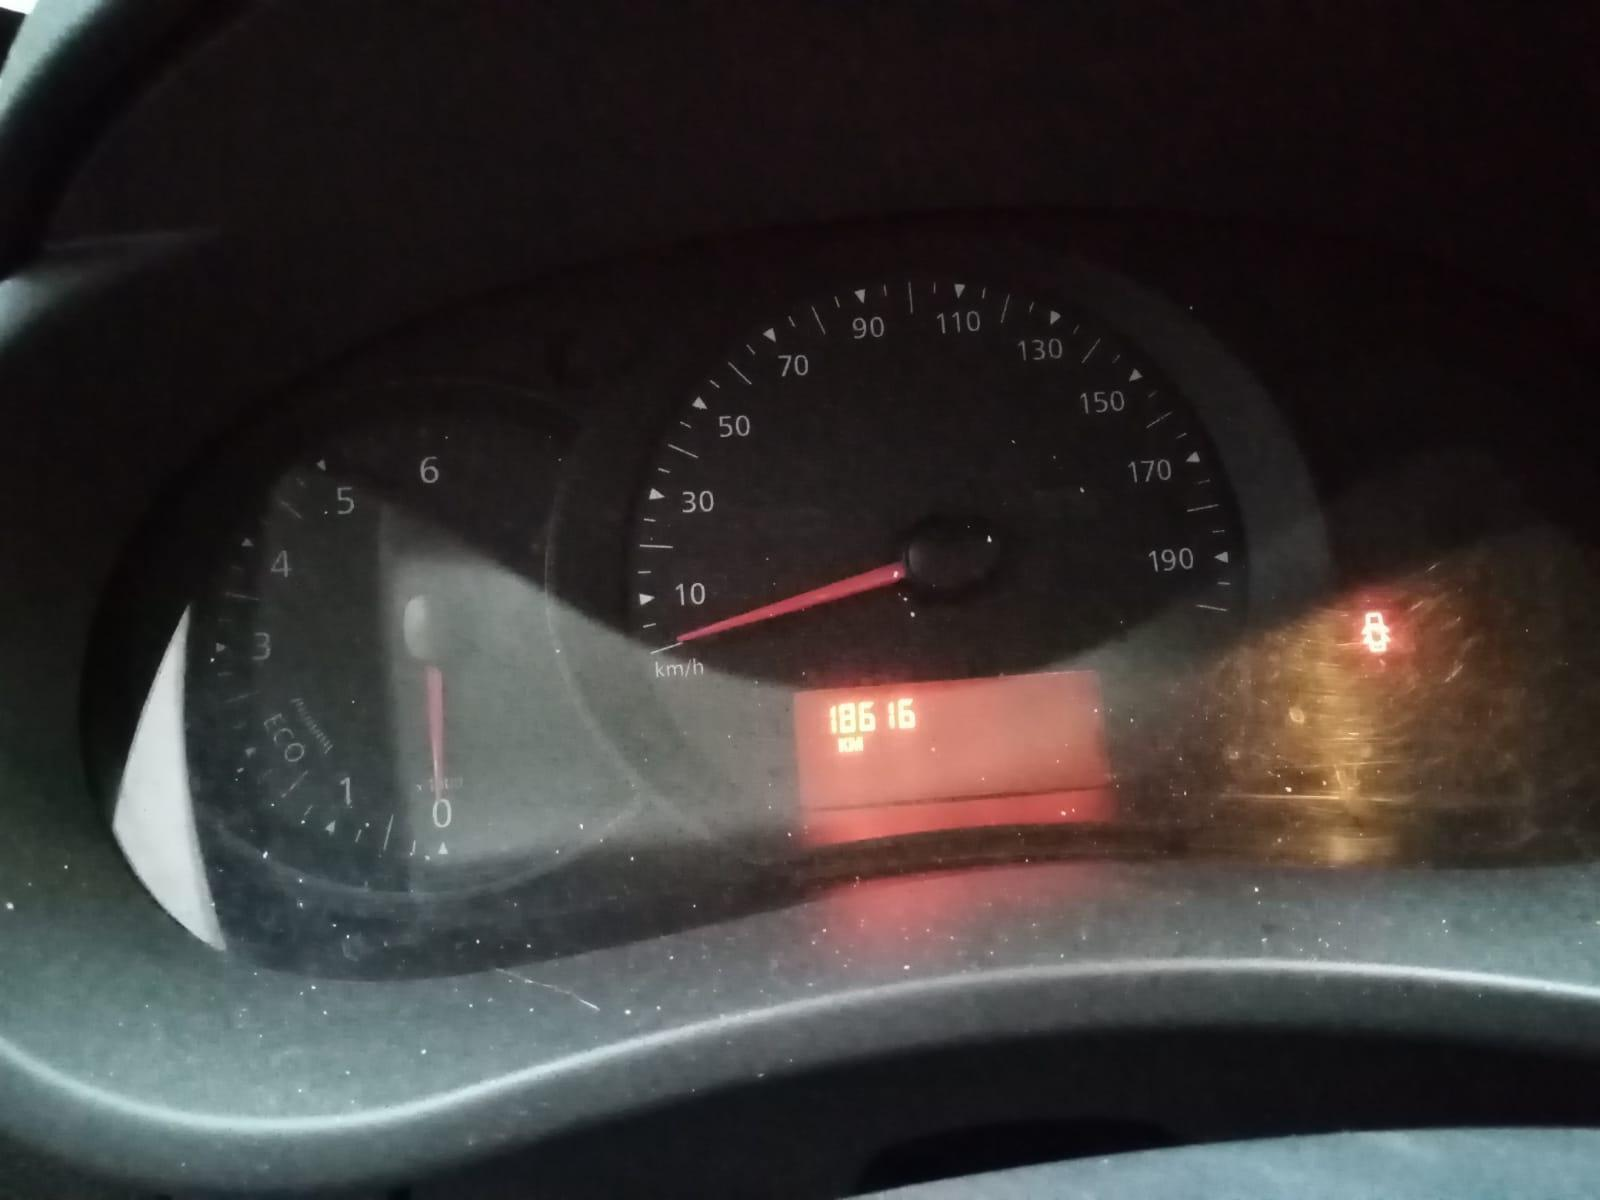1: (826, 700, 838, 734), (886, 697, 894, 734)
6: (857, 700, 877, 730), (897, 695, 915, 729)
8: (838, 702, 855, 735)
X: (848, 735, 864, 753), (837, 735, 848, 753)
odometer: (787, 671, 1120, 797)
